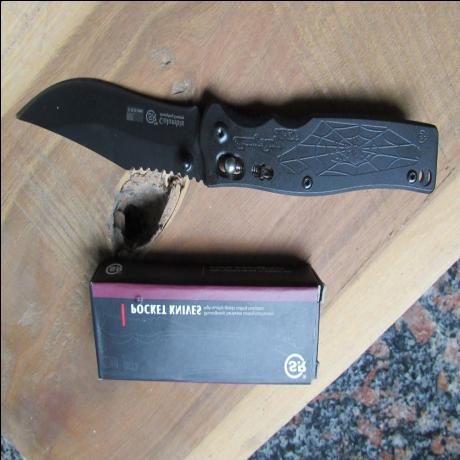weapon: (12, 74, 442, 197)
